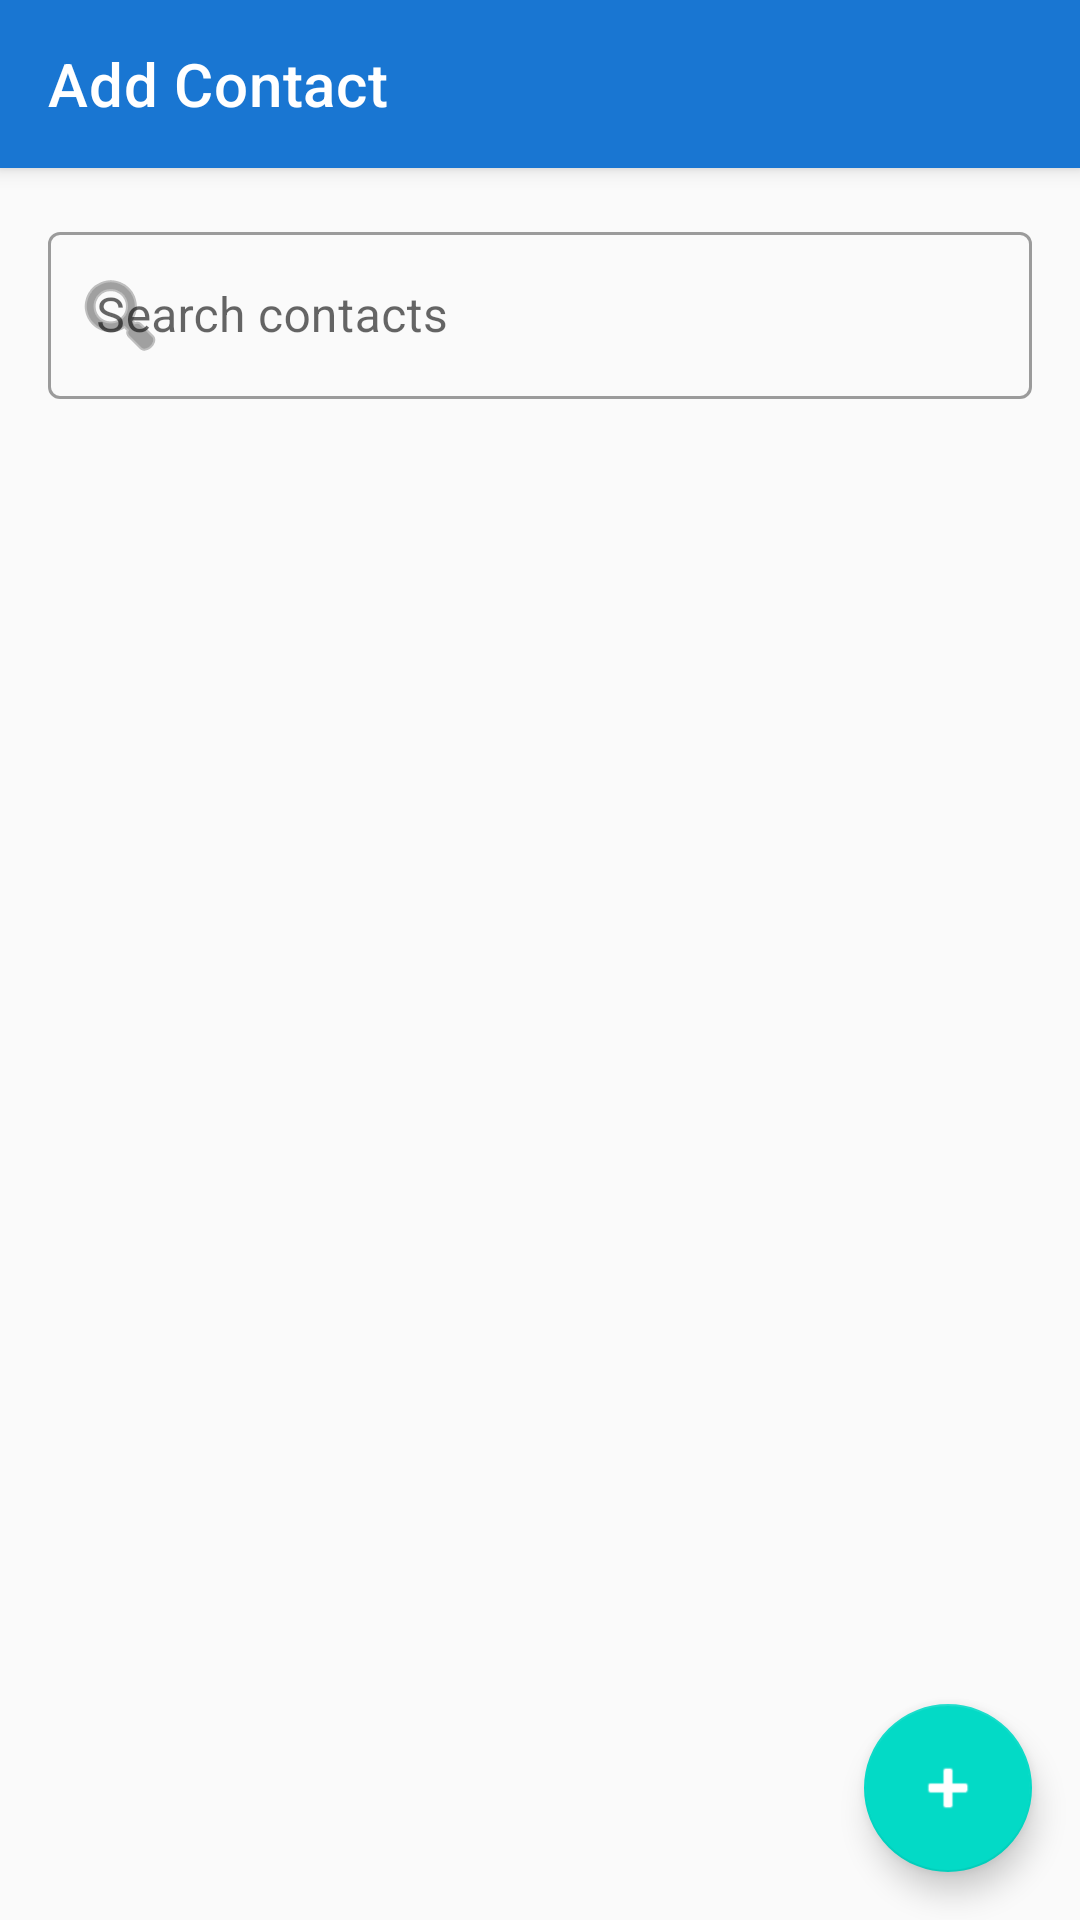

Screen size 1080 x 1920. Icon name, then its box in pixels as box=[x1, y1, x2, y2]:
Add Contact: box=[864, 1704, 1032, 1872]
